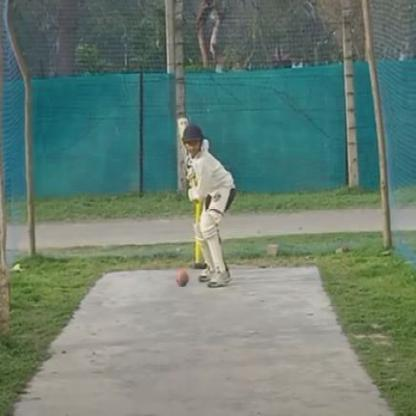ball: (173, 263, 192, 289)
